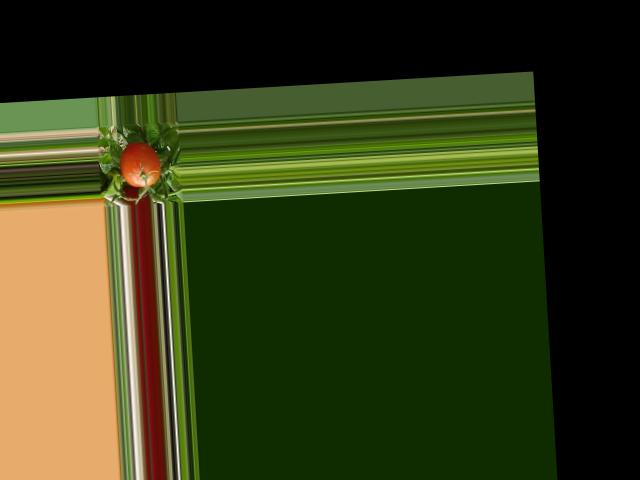tomato: (119, 142, 162, 188)
